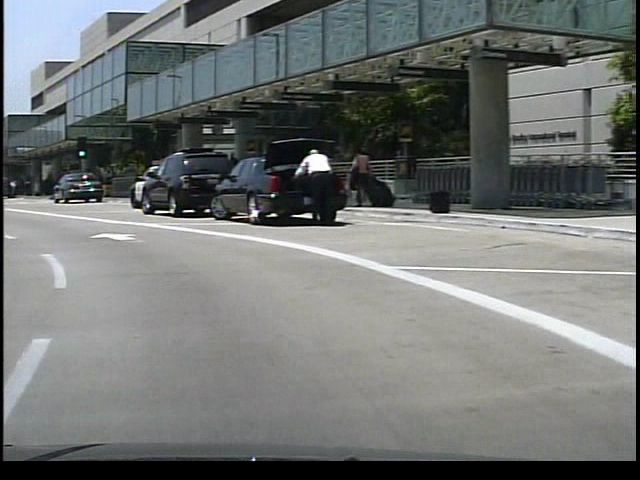person: (288, 145, 335, 230), (343, 144, 364, 212), (345, 146, 366, 212)
